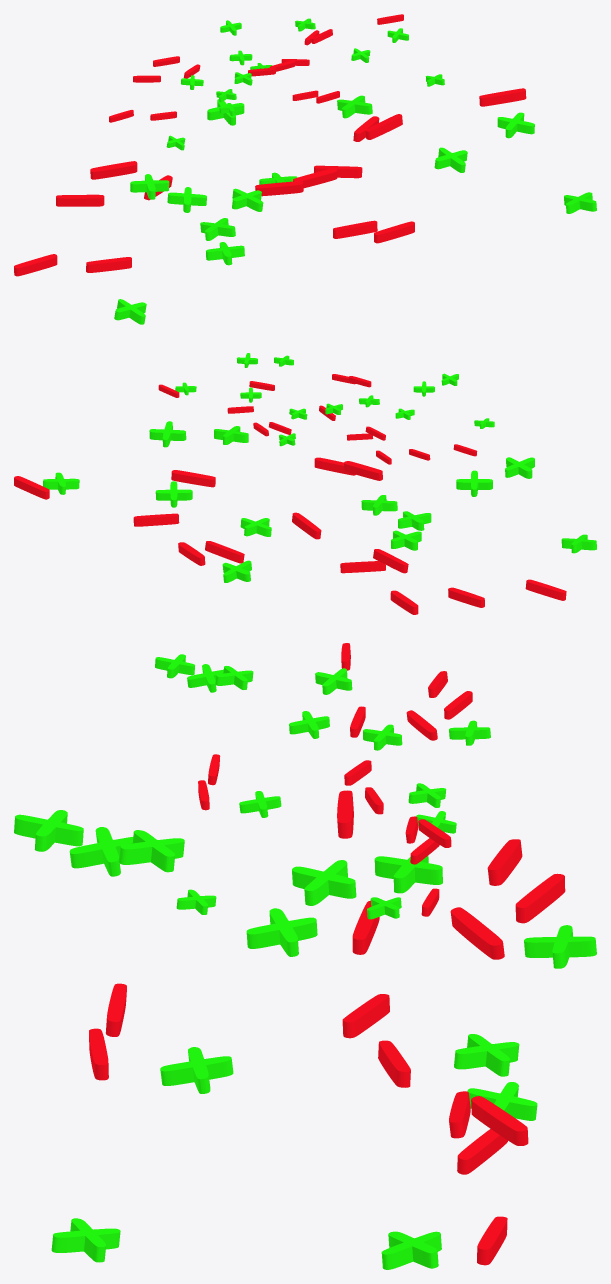
Rendered from Background.glb.
3 renders of one model, top to bottom at view 1: azimuth 30°, elevation 25°; view 2: azimuth 150°, elevation 25°; view 3: azimuth 270°, elevation 25°, orthographic. The views are drawn at different scales.
Parts seen in each view (by area): view 1: Minus, Plus.018, Plus.015, Minus.021, Plus.023, Minus.018, Plus.016, Plus.014, Minus.023, Plus.022, Minus.024, Minus.017 (+10 smaller); view 2: Plus.017, Minus.020, Plus.024, Plus.013, Plus.021, Minus.012, Plus.020, Minus.024, Minus.016, Plus, Plus.018, Plus.016 (+13 smaller); view 3: Plus.022, Plus.014, Plus.015, Plus.024, Plus.013, Plus, Plus.018, Plus.017, Plus.020, Plus.016, Plus.023, Minus.012 (+12 smaller).
Boxes of the visible parts, box(x1,y1,x2,y2) form: Minus: box(90, 161, 137, 179); Plus.018: box(497, 112, 534, 138); Plus.015: box(434, 147, 467, 172); Minus.021: box(56, 194, 104, 206); Plus.023: box(114, 299, 146, 324); Minus.018: box(479, 88, 526, 106); Plus.016: box(130, 174, 169, 199); Plus.014: box(167, 187, 206, 212); Minus.023: box(255, 181, 303, 196); Plus.022: box(232, 188, 263, 211); Minus.024: box(14, 254, 57, 276); Minus.017: box(86, 257, 131, 272); Plus.017: box(155, 481, 192, 507); Minus.020: box(171, 470, 215, 487); Plus.024: box(505, 457, 534, 478); Plus.013: box(149, 421, 186, 447); Plus.021: box(222, 560, 251, 582); Minus.012: box(133, 513, 179, 526); Plus.020: box(456, 470, 492, 496); Minus.024: box(525, 579, 566, 600); Minus.016: box(340, 561, 385, 573); Plus: box(240, 518, 271, 536); Plus.018: box(43, 472, 79, 494); Plus.016: box(391, 530, 421, 550); Plus.022: box(246, 908, 317, 956); Plus.014: box(292, 860, 356, 905); Plus.015: box(160, 1047, 233, 1093); Plus.024: box(14, 810, 83, 851); Plus.013: box(51, 1218, 120, 1262); Plus: box(524, 925, 596, 968); Plus.018: box(381, 1231, 441, 1269); Plus.017: box(454, 1034, 519, 1076); Plus.020: box(119, 830, 184, 872); Plus.016: box(374, 856, 442, 893); Plus.023: box(69, 827, 133, 876); Minus.012: box(471, 1096, 528, 1145).
Bounding box in the file's own units: 28.82 × 9.41 × 14.48.
